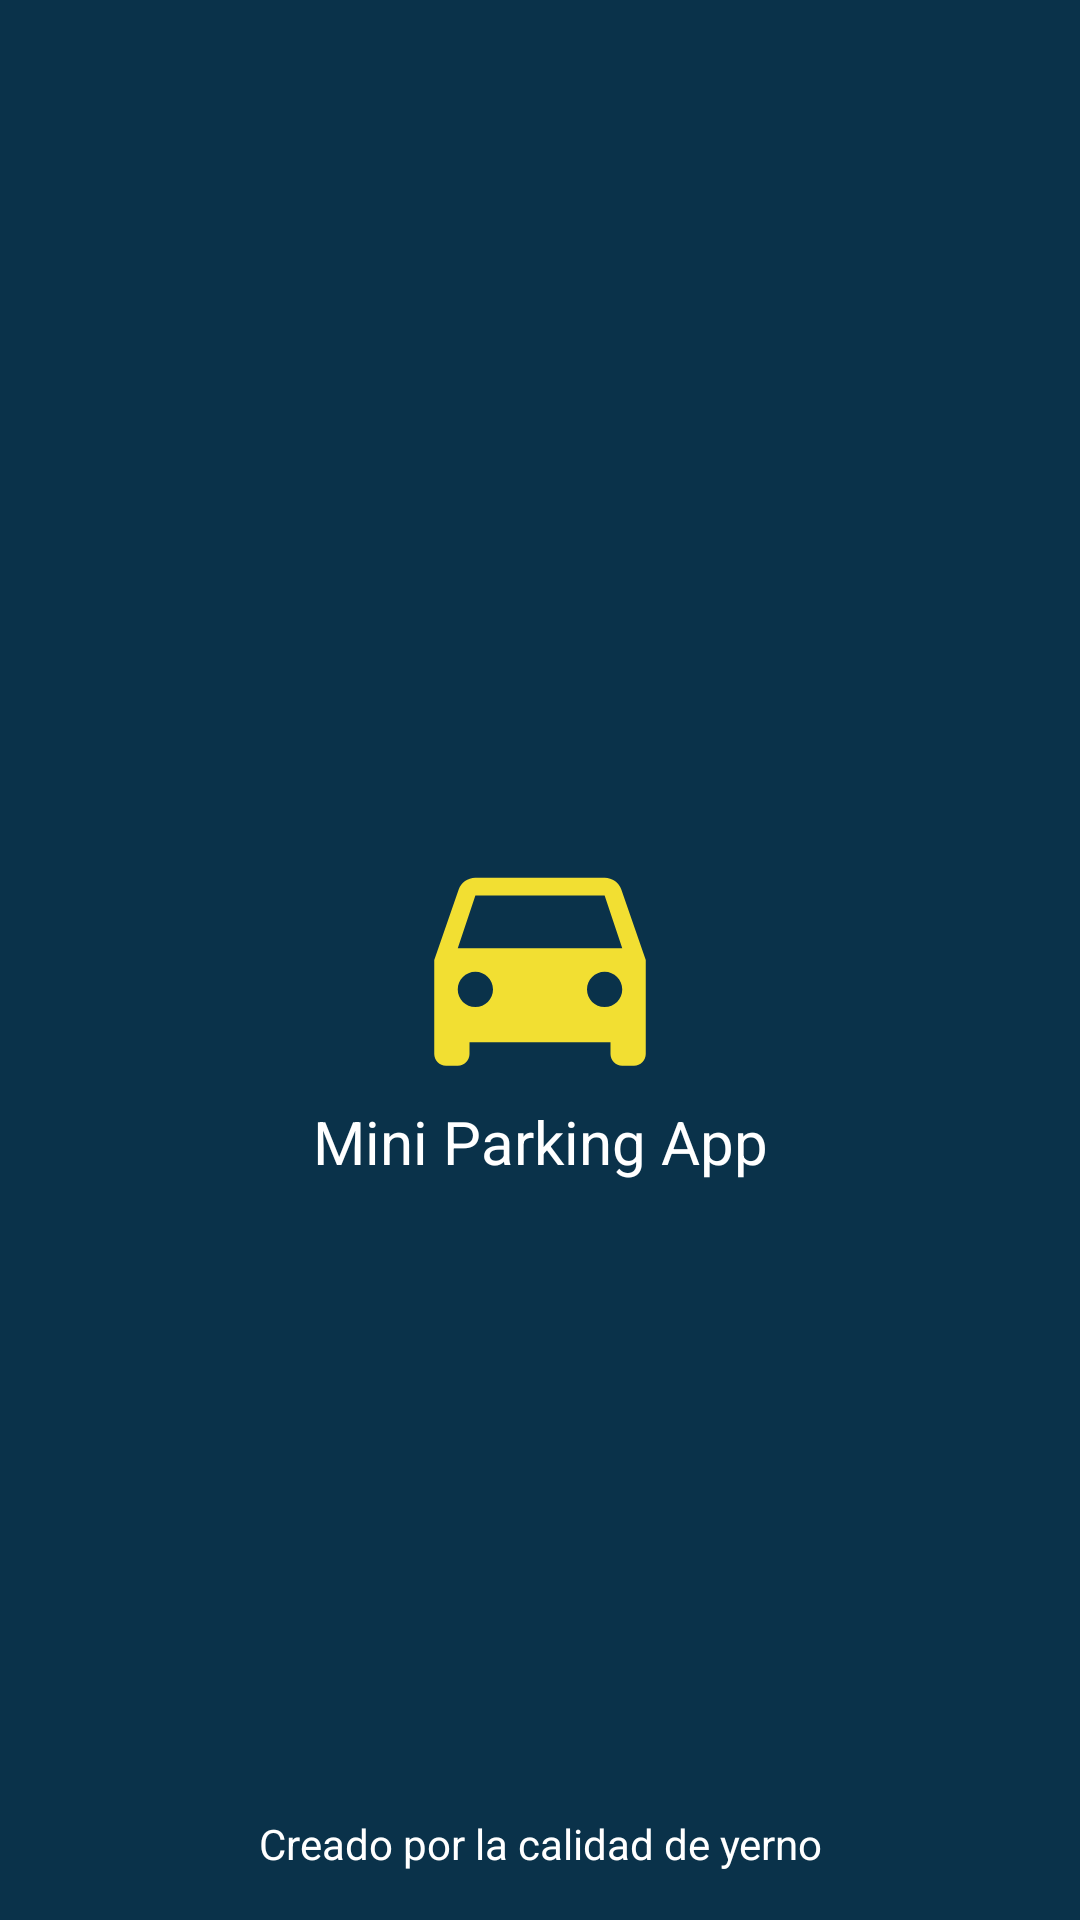

Icon click points for this 1080x1920 phone screenshot, format [x,y]:
directions car: [540,971]
